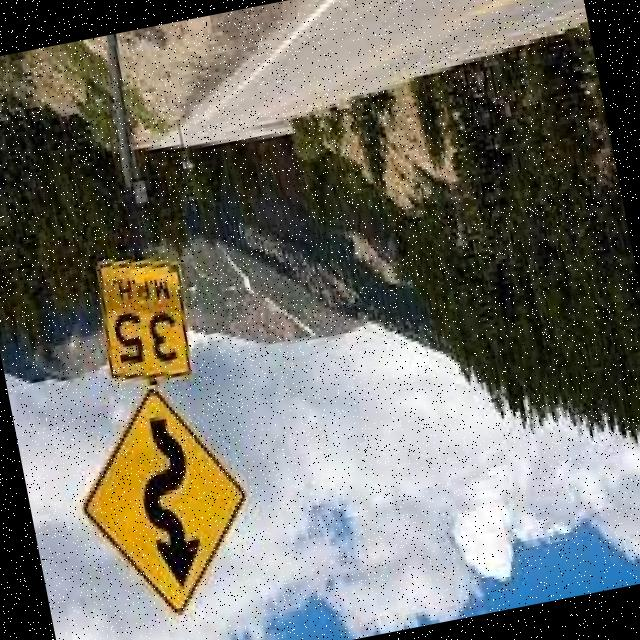left_sharp_curve: (59, 372, 268, 638)
